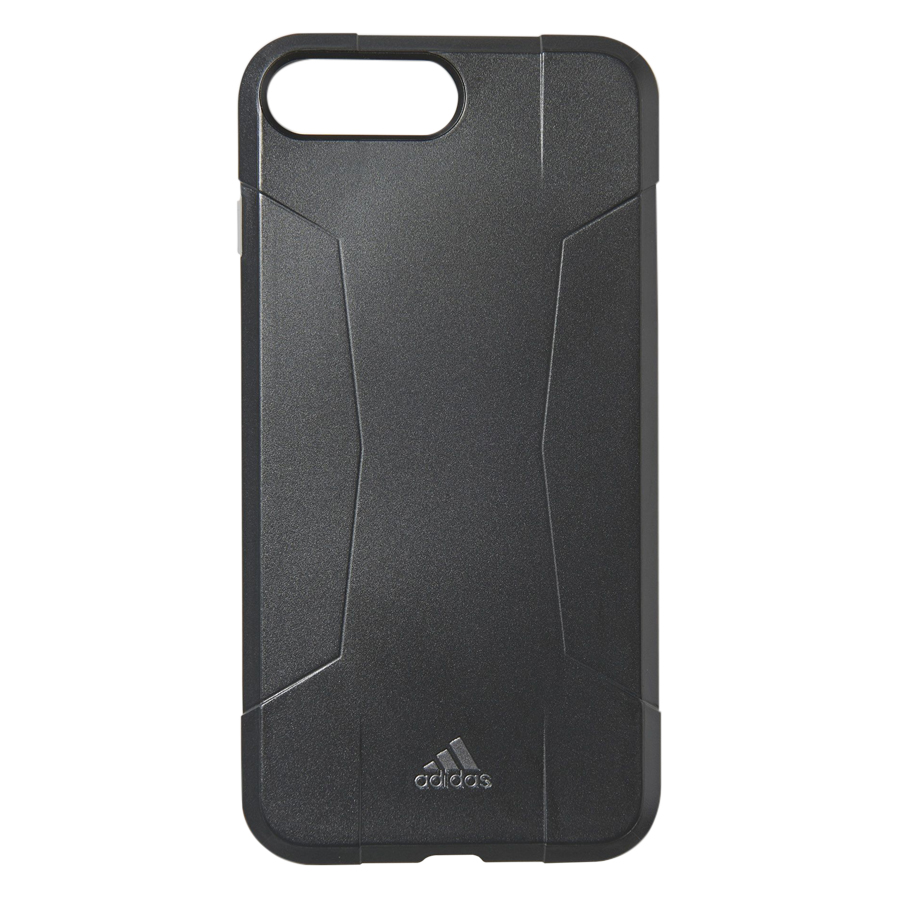Adidas: (412, 727, 497, 799)
